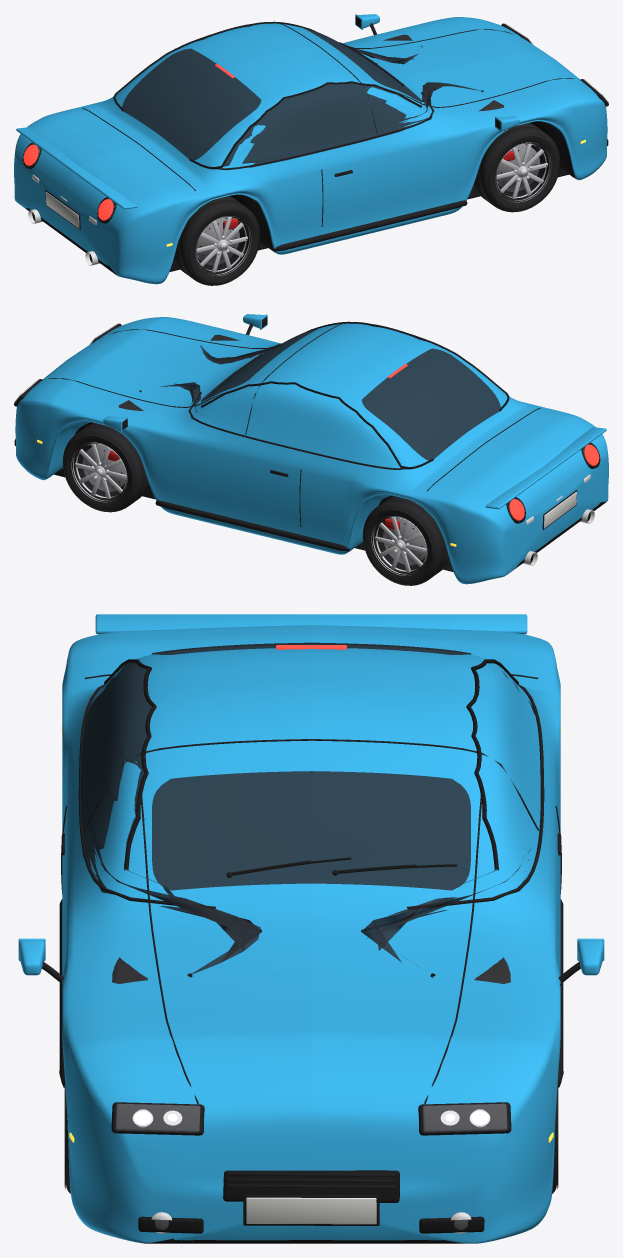
The picture shows the model from 3 angles, top to bottom: view 1: azimuth 30°, elevation 25°; view 2: azimuth 150°, elevation 25°; view 3: azimuth 270°, elevation 25°; orthographic projection. The views are drawn at different scales.
Visible parts, largest first — view 1: body, glass_screen_1, glass_side_R, wheel_RR_tyre, wheel_FR_tyre, wing_lip, side_skirt, glass_screen_0, wheel_FR_disc, wheel_RR_disc, seal_R.001, belt_trim (+4 smaller); view 2: body, glass_screen_1, wheel_RL_tyre, wheel_FL_tyre, wing_lip, side_skirt.001, glass_screen_0, seal_L.001, wheel_FL_disc, wheel_RL_disc, belt_trim.001, wheel_FL_barrel (+4 smaller); view 3: body, glass_screen_0, glass_side_R, wing_lip, plate_front, grille_back, head_housing, head_housing.001, head_lens.001, head_lens, glass_side_L, glass_screen_1 (+11 smaller).
Part boxes in pixels (left/top/right/bottom): body: left=14, top=17, right=607, bottom=284; glass_screen_1: left=122, top=48, right=261, bottom=160; glass_side_R: left=223, top=82, right=480, bottom=167; wheel_RR_tyre: left=173, top=196, right=260, bottom=285; wheel_FR_tyre: left=473, top=123, right=560, bottom=212; wing_lip: left=16, top=127, right=137, bottom=209; side_skirt: left=272, top=200, right=467, bottom=251; glass_screen_0: left=303, top=28, right=421, bottom=101; wheel_FR_disc: left=497, top=144, right=540, bottom=191; wheel_RR_disc: left=197, top=218, right=239, bottom=265; seal_R.001: left=189, top=81, right=421, bottom=168; belt_trim: left=211, top=92, right=434, bottom=169; body: left=15, top=317, right=608, bottom=584; glass_screen_1: left=361, top=348, right=500, bottom=460; wheel_RL_tyre: left=362, top=496, right=449, bottom=585; wheel_FL_tyre: left=62, top=423, right=149, bottom=512; wing_lip: left=485, top=427, right=606, bottom=509; side_skirt.001: left=155, top=500, right=350, bottom=551; glass_screen_0: left=201, top=328, right=319, bottom=401; seal_L.001: left=201, top=381, right=433, bottom=468; wheel_FL_disc: left=82, top=444, right=125, bottom=491; wheel_RL_disc: left=383, top=518, right=425, bottom=565; belt_trim.001: left=188, top=392, right=411, bottom=469; wheel_FL_barrel: left=74, top=443, right=126, bottom=499; body: left=62, top=625, right=560, bottom=1243; glass_screen_0: left=152, top=771, right=470, bottom=890; glass_side_R: left=81, top=662, right=261, bottom=974; wing_lip: left=95, top=614, right=527, bottom=634; plate_front: left=246, top=1197, right=376, bottom=1224; grille_back: left=223, top=1170, right=399, bottom=1202; head_housing: left=111, top=1102, right=204, bottom=1135; head_housing.001: left=418, top=1102, right=511, bottom=1135; head_lens.001: left=423, top=1103, right=507, bottom=1132; head_lens: left=115, top=1103, right=199, bottom=1132; glass_side_L: left=361, top=664, right=536, bottom=966; glass_screen_1: left=151, top=642, right=471, bottom=654.
Bounding box in the file's own units: 4.32 × 1.31 × 2.15.
